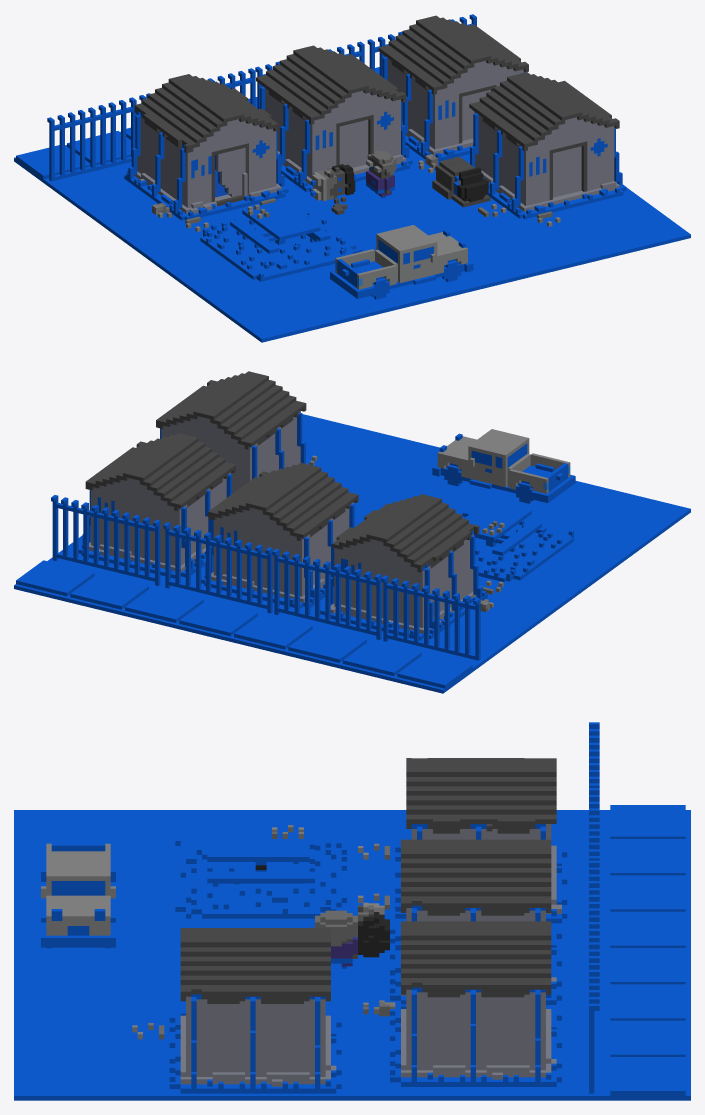
File: scene_tentcity.obj
3 renders of one model, top to bottom at view 1: azimuth 30°, elevation 25°; view 2: azimuth 150°, elevation 25°; view 3: azimuth 270°, elevation 25°, orthographic. The views are drawn at different scales.
Bounding box in the file's own units: 126 × 26 × 126.
